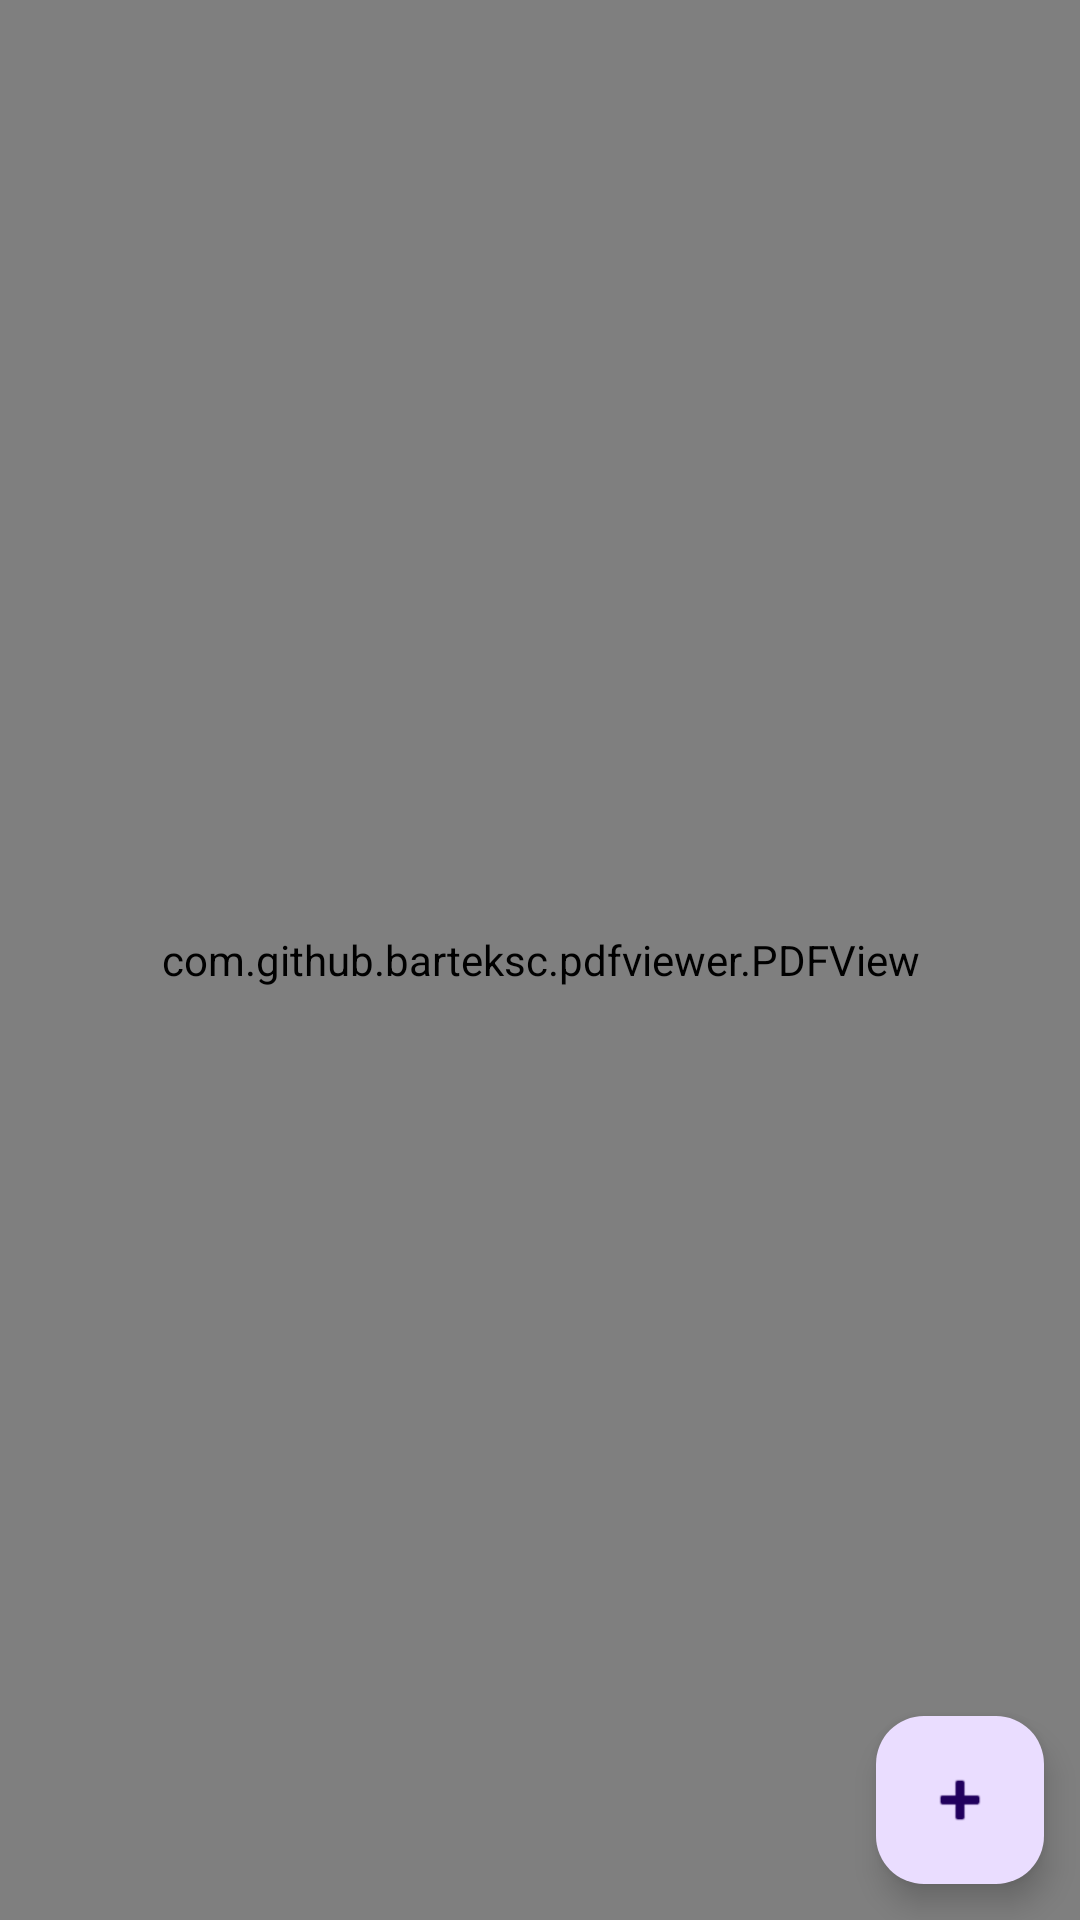

Locate icon controls on the screen. Image size 1080x1920, boxes as [left=x1, top=y1, right=x2, bottom=y2].
Add item: [left=876, top=1716, right=1044, bottom=1884]
